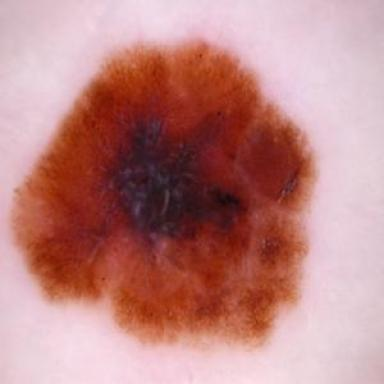Melanoma: (12, 42, 315, 346)
